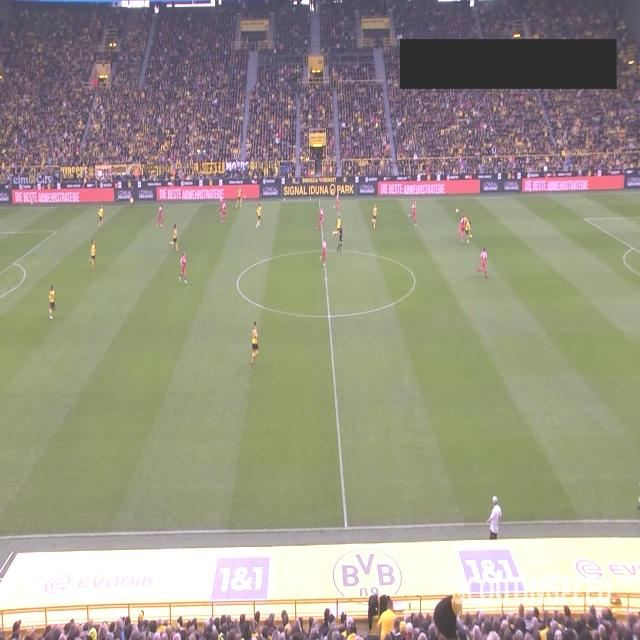ball: (456, 208, 458, 213)
f_player: (252, 320, 262, 366), (478, 246, 490, 278), (47, 284, 57, 320), (168, 224, 180, 252), (88, 238, 97, 270), (179, 253, 187, 286), (320, 235, 328, 268), (458, 212, 466, 244), (332, 212, 342, 237), (466, 214, 474, 244), (316, 205, 325, 231), (409, 200, 417, 226), (157, 204, 165, 228), (256, 204, 264, 228), (372, 206, 379, 232), (236, 184, 243, 210), (221, 197, 227, 225), (98, 202, 104, 228), (219, 194, 225, 215), (334, 190, 339, 214)
umpire: (336, 224, 344, 252)
